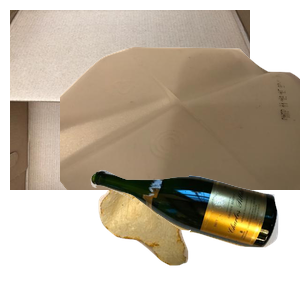cardboard: (10, 10, 250, 190)
glass: (88, 167, 300, 300)
plastic: (60, 44, 300, 224)
trash: (96, 181, 277, 300)
